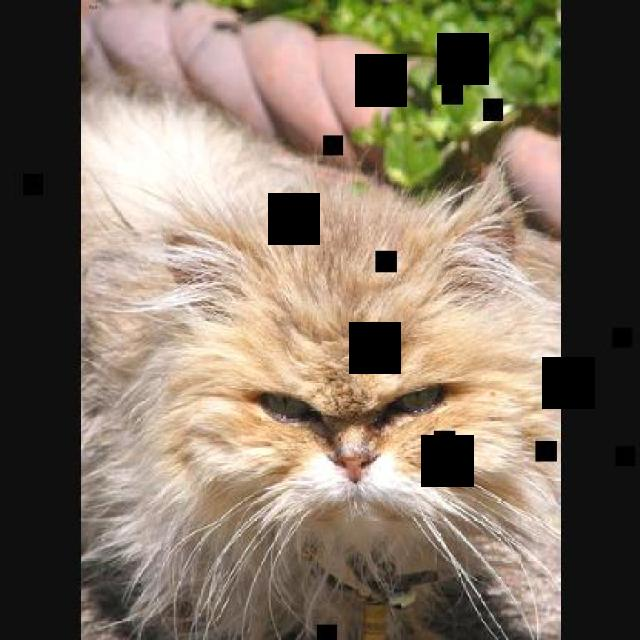unauthorized: (77, 3, 560, 639)
